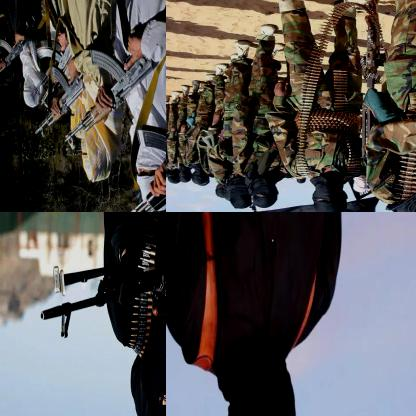rifle: (28, 212, 165, 343), (55, 48, 160, 152), (109, 102, 165, 211), (351, 0, 382, 161), (29, 66, 85, 140), (0, 36, 25, 89)
